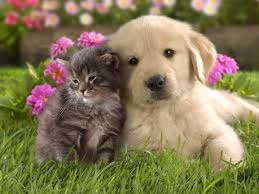cat: (31, 48, 125, 165)
dog: (108, 15, 259, 179)
